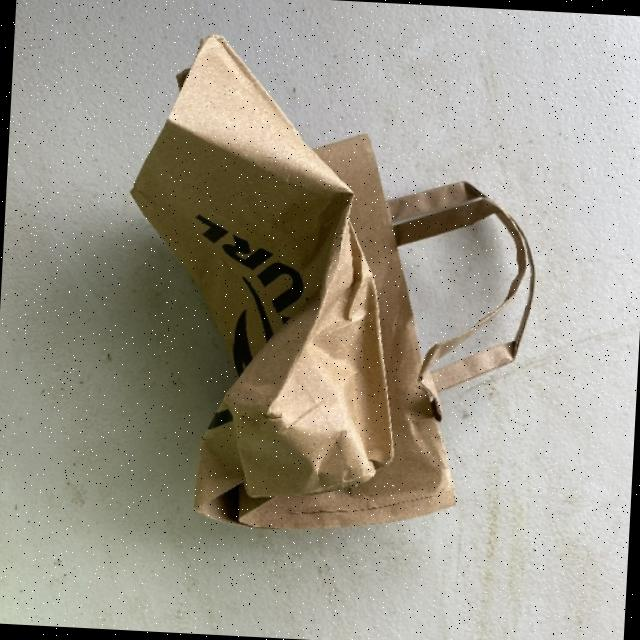paper: (111, 29, 482, 538)
